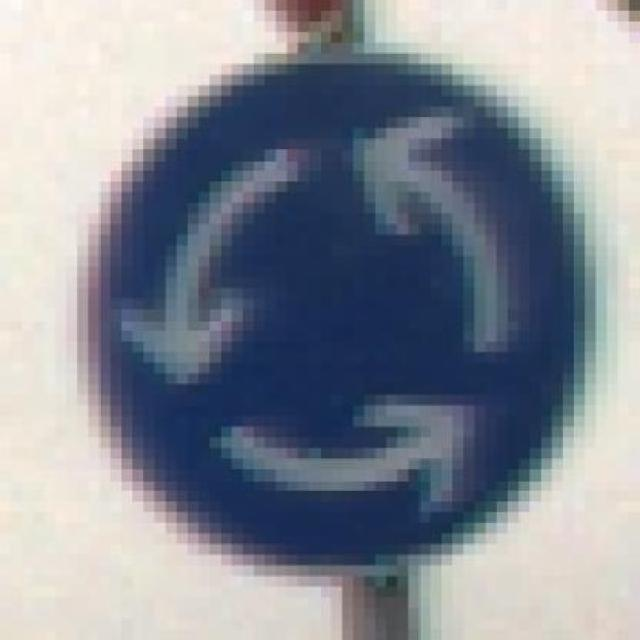Round-About: (45, 53, 629, 609)
